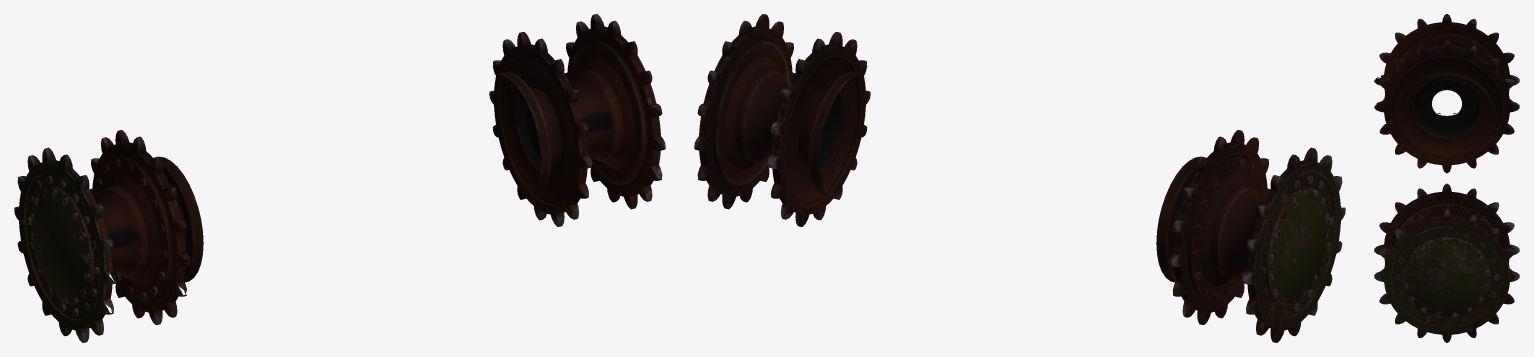
File: big_wheels_0.gltf
3 renders of one model, left to right at view 1: azimuth 30°, elevation 25°; view 2: azimuth 150°, elevation 25°; view 3: azimuth 270°, elevation 25°, orthographic. The views are drawn at different scales.
Visible parts, largest first — view 1: wheels; view 2: wheels; view 3: wheels.
Part boxes in pixels (x1=…): wheels: x1=14, y1=14, x2=665, y2=342; wheels: x1=694, y1=14, x2=1345, y2=342; wheels: x1=1374, y1=14, x2=1519, y2=342.
Bounding box in the file's own units: 0.5612 × 0.1678 × 0.1678.
Materials: 1 (1 with a texture image).
